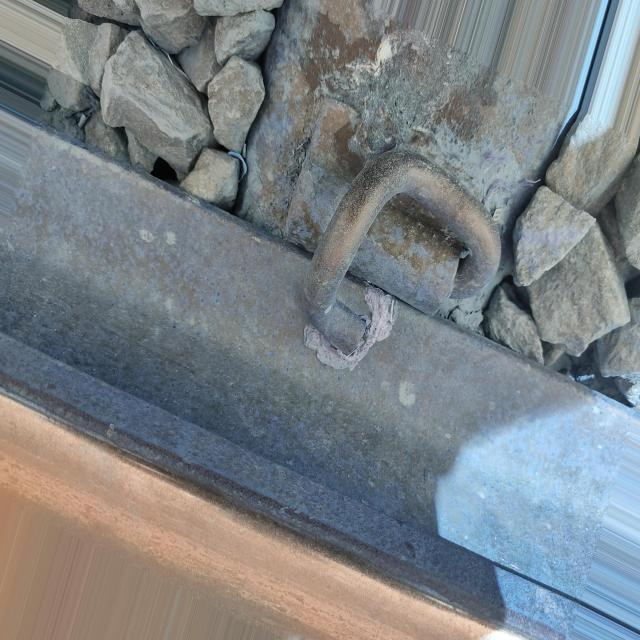Good Fasteners: (245, 32, 566, 369)
